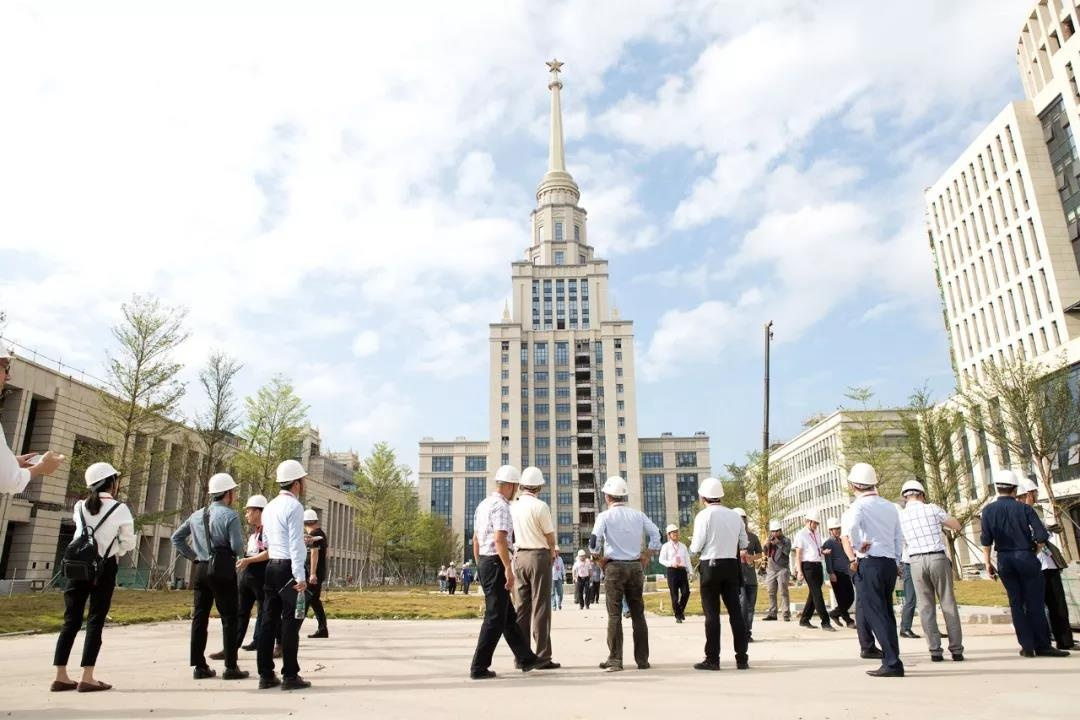white: (80, 460, 121, 498), (272, 458, 305, 496), (598, 473, 632, 506), (846, 462, 878, 497), (695, 475, 727, 509), (208, 469, 238, 505), (490, 464, 521, 498), (242, 491, 266, 527), (518, 464, 542, 496), (994, 469, 1018, 499), (899, 479, 926, 504), (1019, 478, 1038, 505), (300, 507, 320, 532), (826, 515, 842, 538), (804, 509, 821, 530), (664, 520, 680, 541), (767, 520, 784, 538), (577, 548, 586, 561)
